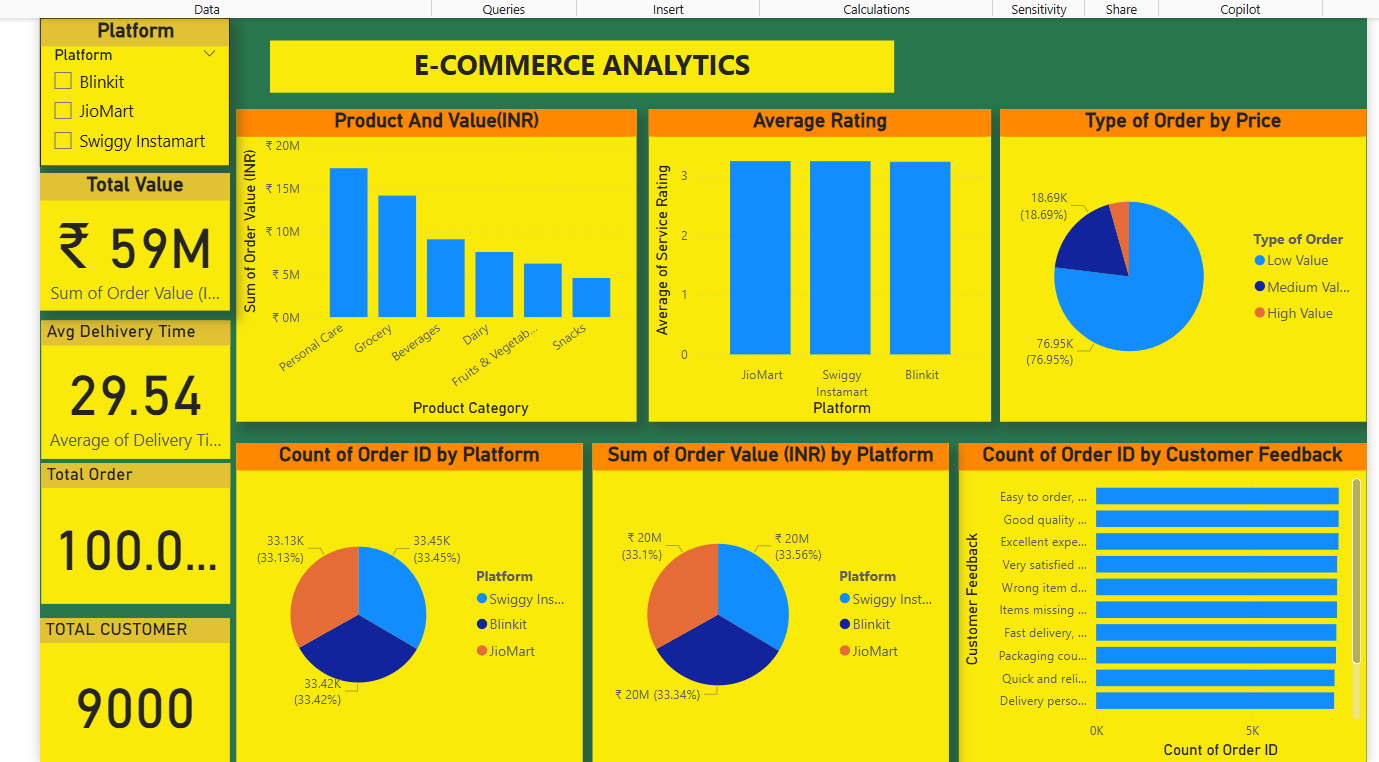

The dashboard page shown, as its layout file describes it:
{"tool":"powerbi","page":{"name":"Page 1","canvas":[1280,720],"ordinal":0},"visuals":[{"type":"pieChart","fields":{"Category":["Ecommerce_Delivery_Analytics_New.Platform"],"Y":["CountNonNull(Ecommerce_Delivery_Analytics_New.Order ID)"]},"box":[189.4,410.2,334.2,310.1],"z":0},{"type":"clusteredBarChart","fields":{"Y":["CountNonNull(Ecommerce_Delivery_Analytics_New.Order ID)"],"Category":["Ecommerce_Delivery_Analytics_New.Customer Feedback"]},"box":[886.7,410.2,393.3,310.1],"z":1000},{"type":"pieChart","fields":{"Category":["Ecommerce_Delivery_Analytics_New.Platform"],"Y":["Sum(Ecommerce_Delivery_Analytics_New.Order Value (INR))"]},"box":[533.2,410.2,343.8,310.1],"z":2000},{"type":"columnChart","title":"Product And Value(INR)","fields":{"Category":["Ecommerce_Delivery_Analytics_New.Product Category"],"Y":["Sum(Ecommerce_Delivery_Analytics_New.Order Value (INR))"]},"box":[189.4,88.1,386.1,301.6],"z":3000},{"type":"slicer","title":"Platform","fields":{"Values":["Ecommerce_Delivery_Analytics_New.Platform"]},"box":[0,0,183.4,143.6],"z":4000},{"type":"card","title":"Avg Delhivery Time","fields":{"Values":["Avg(Ecommerce_Delivery_Analytics_New.Delivery Time (Minutes))"]},"box":[1.2,292,182.2,133.9],"z":5000},{"type":"card","title":"Total Order","fields":{"Values":["CountNonNull(Ecommerce_Delivery_Analytics_New.Order ID)"]},"box":[1.2,429.5,182.2,136.3],"z":6000},{"type":"card","title":"TOTAL CUSTOMER","fields":{"Values":["Count(Ecommerce_Delivery_Analytics_New.Customer ID)"]},"box":[0,579.1,183.4,141.2],"z":7000},{"type":"card","title":"Total Value","fields":{"Values":["Sum(Ecommerce_Delivery_Analytics_New.Order Value (INR))"]},"box":[0,149.6,183.4,132.7],"z":8000},{"type":"columnChart","title":"Average Rating","fields":{"Category":["Ecommerce_Delivery_Analytics_New.Platform"],"Y":["Avg(Ecommerce_Delivery_Analytics_New.Service Rating)"]},"box":[587.5,88.1,330.6,301.6],"z":9000},{"type":"textbox","box":[222,14.5,639.4,57.9],"z":10000},{"type":"pieChart","title":" Type of Order by Price","fields":{"Y":["CountNonNull(Ecommerce_Delivery_Analytics_New.Type of Order)"],"Category":["Ecommerce_Delivery_Analytics_New.Type of Order"]},"box":[926.5,88.1,353.5,301.6],"z":11000}]}

Visuals, with their boxes in screenshot pixels (x1, y1, x2, y2):
pieChart - Ecommerce_Delivery_Analytics_New.Platform x CountNonNull(Ecommerce_Delivery_Analytics_New.Order ID): x1=230 y1=442 x2=578 y2=761
clusteredBarChart - CountNonNull(Ecommerce_Delivery_Analytics_New.Order ID) x Ecommerce_Delivery_Analytics_New.Customer Feedback: x1=957 y1=442 x2=1367 y2=761
pieChart - Ecommerce_Delivery_Analytics_New.Platform x Sum(Ecommerce_Delivery_Analytics_New.Order Value (INR)): x1=588 y1=442 x2=947 y2=761
"Product And Value(INR)" columnChart: x1=230 y1=106 x2=632 y2=421
"Platform" slicer: x1=32 y1=14 x2=224 y2=164
"Avg Delhivery Time" card: x1=34 y1=319 x2=224 y2=458
"Total Order" card: x1=34 y1=462 x2=224 y2=604
"TOTAL CUSTOMER" card: x1=32 y1=618 x2=224 y2=761
"Total Value" card: x1=32 y1=170 x2=224 y2=309
"Average Rating" columnChart: x1=645 y1=106 x2=990 y2=421
textbox: x1=264 y1=29 x2=931 y2=90
" Type of Order by Price" pieChart: x1=998 y1=106 x2=1367 y2=421
